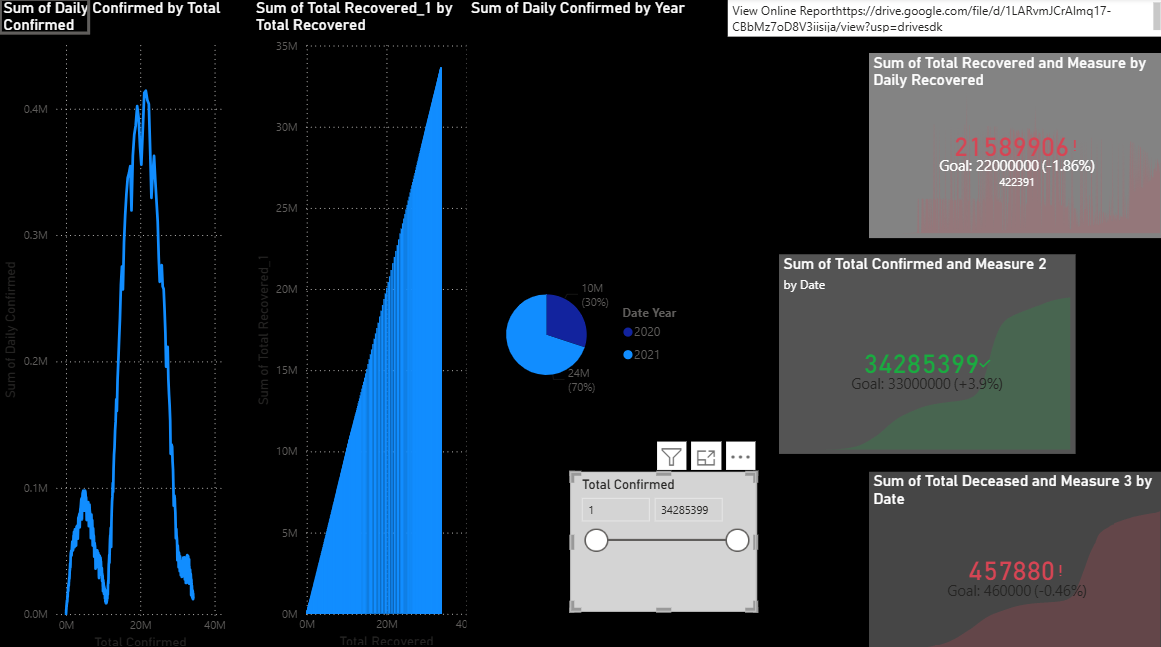

The page's visual inventory and layout, read from the dashboard file:
{"tool":"powerbi","page":{"name":"Page 1","canvas":[1280,720],"ordinal":0},"visuals":[{"type":"kpi","fields":{"Indicator":["Sum(case_time_series - case_time_se.Total Recovered)"],"TrendLine":["case_time_series - case_time_se.Daily Recovered"],"Goal":["case_time_series - case_time_se.Measure"]},"box":[955.1,60.4,325.2,203.1],"z":0},{"type":"kpi","fields":{"Indicator":["Sum(case_time_series - case_time_se.Total Confirmed)"],"TrendLine":["case_time_series - case_time_se.Date"],"Goal":["case_time_series - case_time_se.Measure 2"]},"box":[856.3,281.3,325.2,219.6],"z":1000},{"type":"kpi","fields":{"Indicator":["Sum(case_time_series - case_time_se.Total Deceased)"],"TrendLine":["case_time_series - case_time_se.Date"],"Goal":["case_time_series - case_time_se.Measure 3"]},"box":[955.1,520.1,325.2,200.3],"z":2000},{"type":"lineChart","fields":{"Category":["case_time_series - case_time_se.Total Confirmed"],"Y":["Sum(case_time_series - case_time_se.Daily Confirmed)"]},"box":[0,0,253.9,720.4],"z":3000},{"type":"columnChart","fields":{"Category":["case_time_series - case_time_se.Total Recovered"],"Y":["Sum(case_time_series - case_time_se.Total Recovered_1)"]},"box":[277,0,254,720],"z":4000},{"type":"pieChart","fields":{"Category":["case_time_series - case_time_se.Date.Variation.Date Hierarchy.Year","case_time_series - case_time_se.Date.Variation.Date Hierarchy.Quarter","case_time_series - case_time_se.Date.Variation.Date Hierarchy.Month","case_time_series - case_time_se.Date.Variation.Date Hierarchy.Day"],"Y":["Sum(case_time_series - case_time_se.Daily Confirmed)"]},"box":[513.2,0,253.9,720.4],"z":5000},{"type":"slicer","fields":{"Values":["case_time_series - case_time_se.Total Confirmed"]},"box":[627.1,520.1,204.5,153.7],"z":6000},{"type":"textbox","box":[800,0,480.3,42.5],"z":7000},{"type":"actionButton","box":[0,0,100,40],"z":8000},{"type":"actionButton","box":[0,0,100,40],"z":9000}]}

Visuals, with their boxes in screenshot pixels (x1, y1, x2, y2), scaled from the page's 1280x720 canvas onto the 1161x647 screenshot:
kpi - Sum(case_time_series - case_time_se.Total Recovered) x case_time_series - case_time_se.Daily Recovered: (866,54,1160,237)
kpi - Sum(case_time_series - case_time_se.Total Confirmed) x case_time_series - case_time_se.Date: (777,253,1072,450)
kpi - Sum(case_time_series - case_time_se.Total Deceased) x case_time_series - case_time_se.Date: (866,467,1160,646)
lineChart - case_time_series - case_time_se.Total Confirmed x Sum(case_time_series - case_time_se.Daily Confirmed): (0,0,230,646)
columnChart - case_time_series - case_time_se.Total Recovered x Sum(case_time_series - case_time_se.Total Recovered_1): (251,0,482,646)
pieChart - case_time_series - case_time_se.Date.Variation.Date Hierarchy.Year x case_time_series - case_time_se.Date.Variation.Date Hierarchy.Quarter: (465,0,696,646)
slicer - case_time_series - case_time_se.Total Confirmed: (569,467,754,605)
textbox: (726,0,1160,38)
actionButton: (0,0,91,36)
actionButton: (0,0,91,36)
